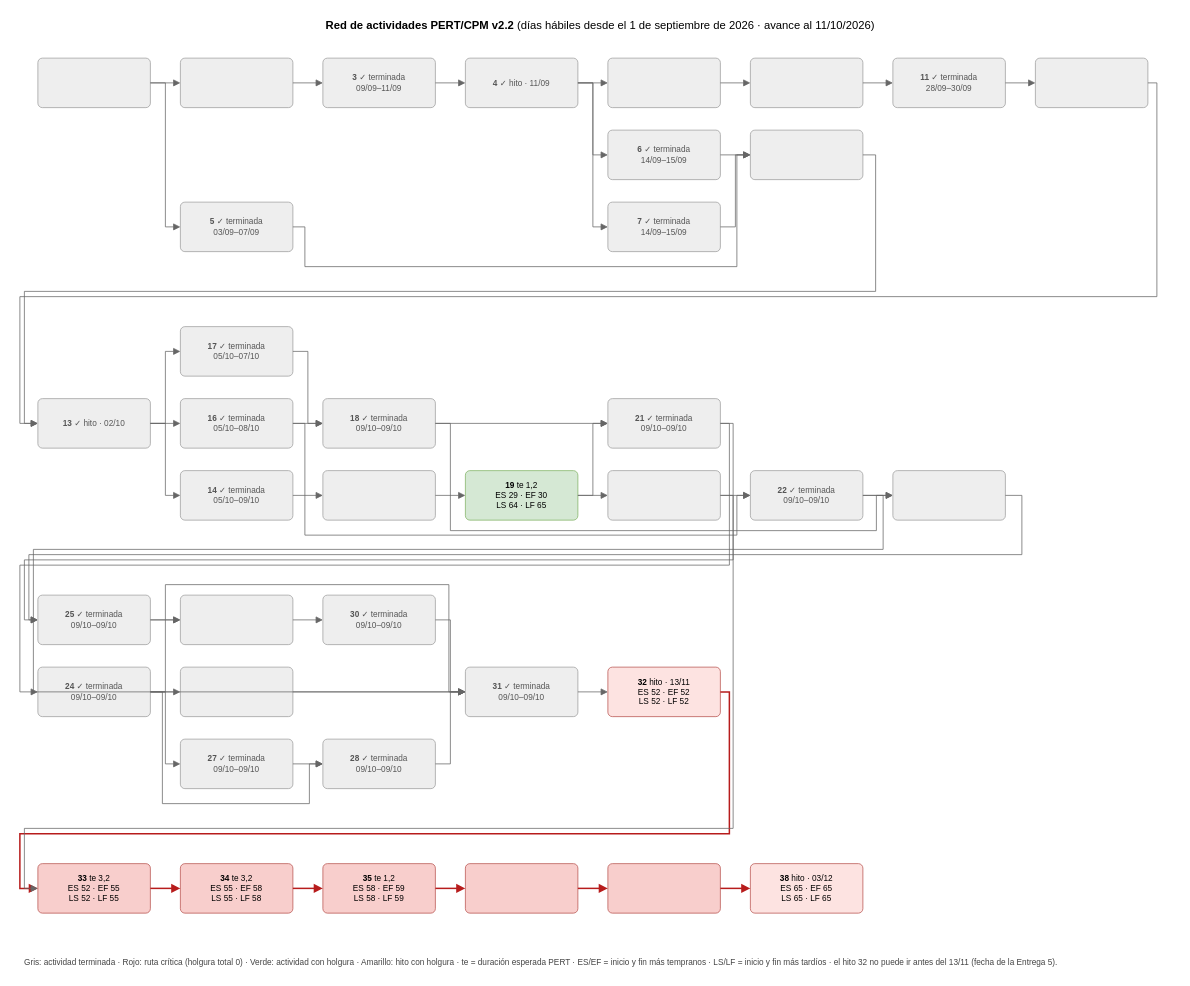
Some shapes in this 1190 by 986 pixel diagram are drawn without their labels. Here are the shapes that lost their labels. From the top down, the box of each, then its label:
(37, 57, 150, 108): 1 ✓ terminada 01/09–02/09
(180, 57, 293, 108): 2 ✓ terminada 03/09–08/09
(607, 57, 720, 108): 9 ✓ terminada 14/09–18/09
(750, 57, 863, 108): 10 ✓ terminada 21/09–25/09
(1035, 57, 1148, 108): 12 ✓ terminada 01/10–02/10
(750, 129, 863, 180): 8 ✓ hito · 15/09
(322, 470, 435, 520): 15 ✓ hito · 09/10
(607, 470, 720, 520): 20 ✓ terminada 09/10–09/10
(892, 470, 1005, 520): 23 ✓ terminada 09/10–09/10
(180, 594, 293, 645): 29 ✓ terminada 09/10–09/10
(180, 666, 293, 717): 26 ✓ terminada 09/10–09/10
(465, 863, 578, 913): 36 te 4,2 ES 59 · EF 63 LS 59 · LF 63
(607, 863, 720, 913): 37 te 2,0 ES 63 · EF 65 LS 63 · LF 65
